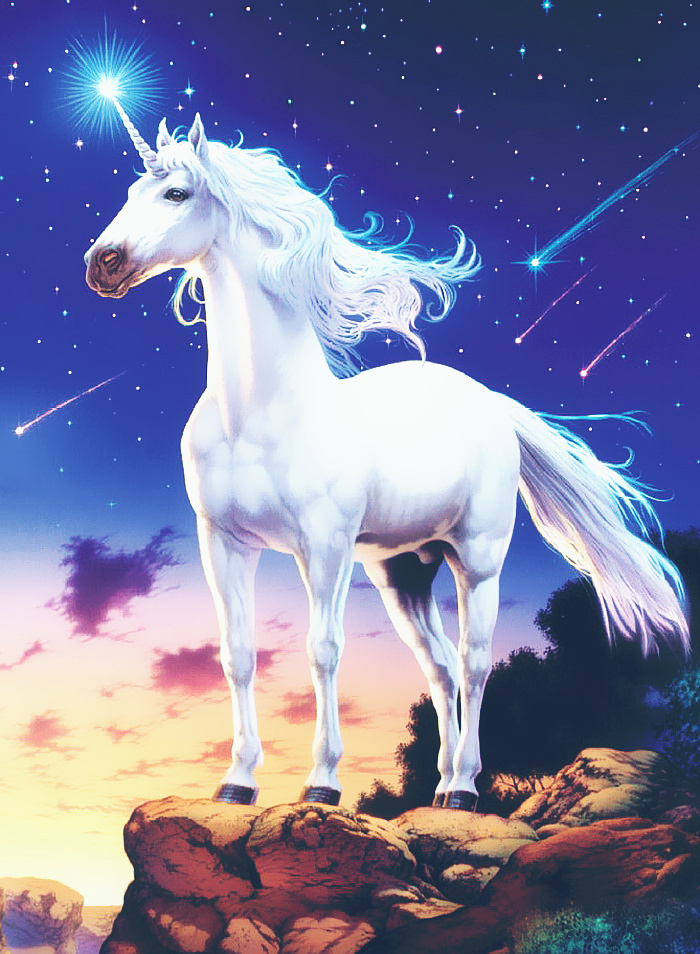background: (54, 38, 690, 827)
